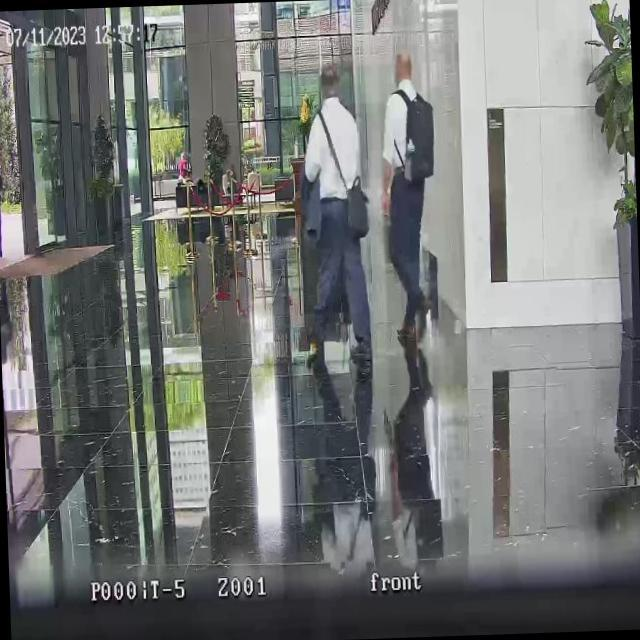person: (296, 60, 374, 374), (377, 46, 440, 340), (0, 159, 4, 257), (178, 152, 189, 178)
